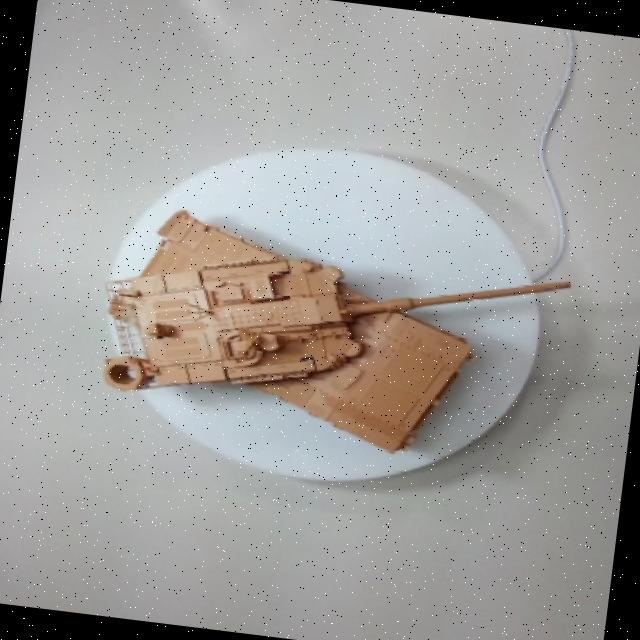korea tank: (55, 146, 588, 508)
